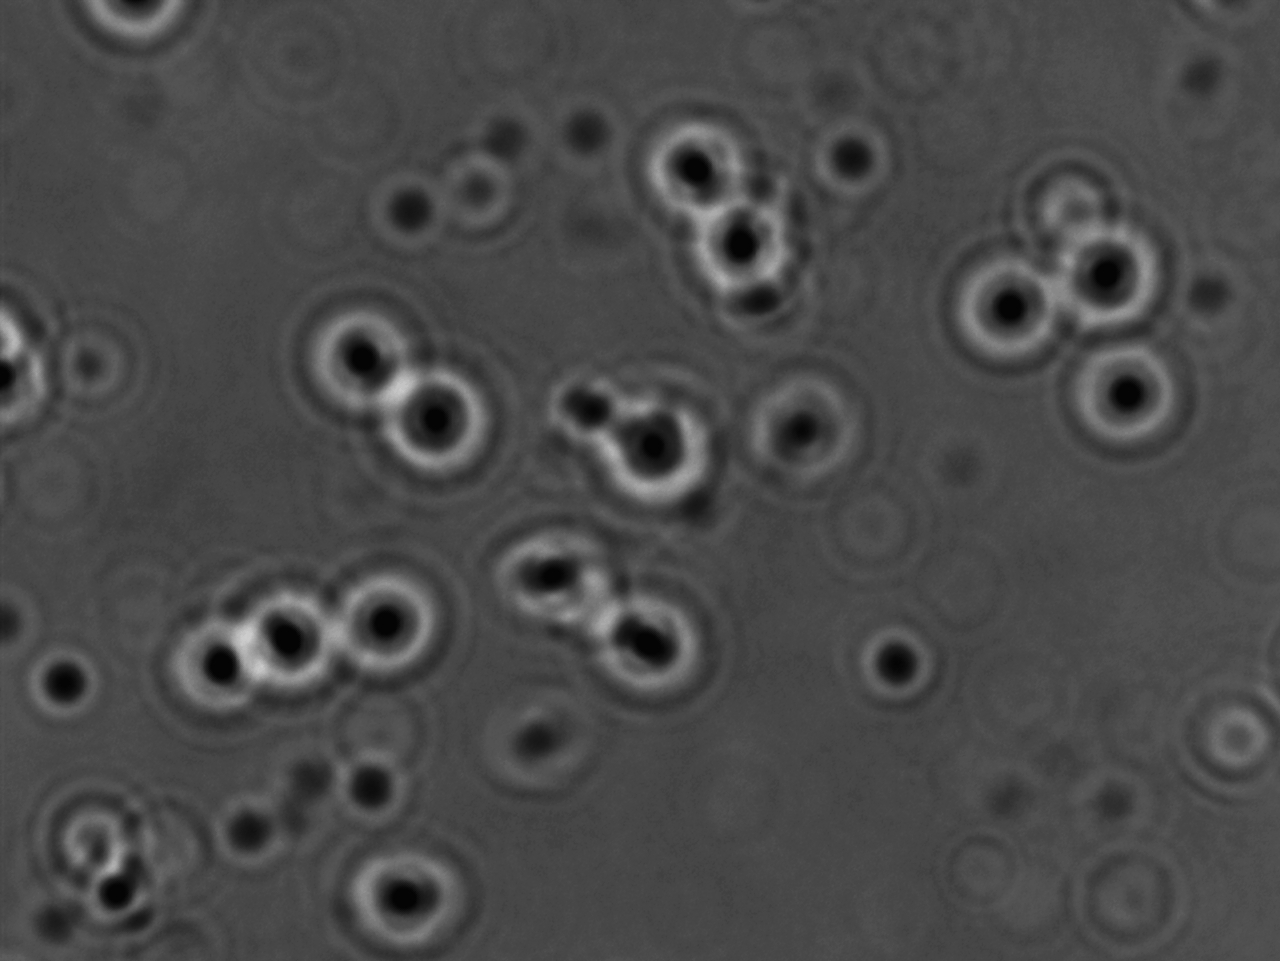depth:-24: (477, 492, 622, 635), (1035, 192, 1175, 336), (279, 287, 429, 419), (678, 176, 816, 319), (925, 239, 1068, 375), (1056, 326, 1192, 467), (631, 93, 761, 230), (340, 839, 487, 959), (325, 560, 465, 685), (346, 357, 490, 479), (572, 377, 723, 490), (138, 609, 272, 732), (231, 575, 353, 708), (586, 586, 711, 713)
